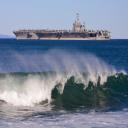Portanaves: (14, 12, 113, 42)
